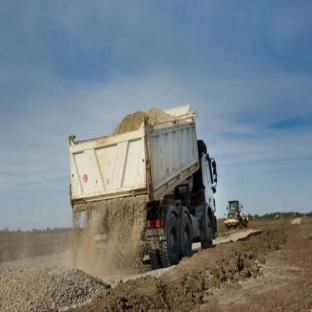Vehicle: (50, 97, 248, 257)
